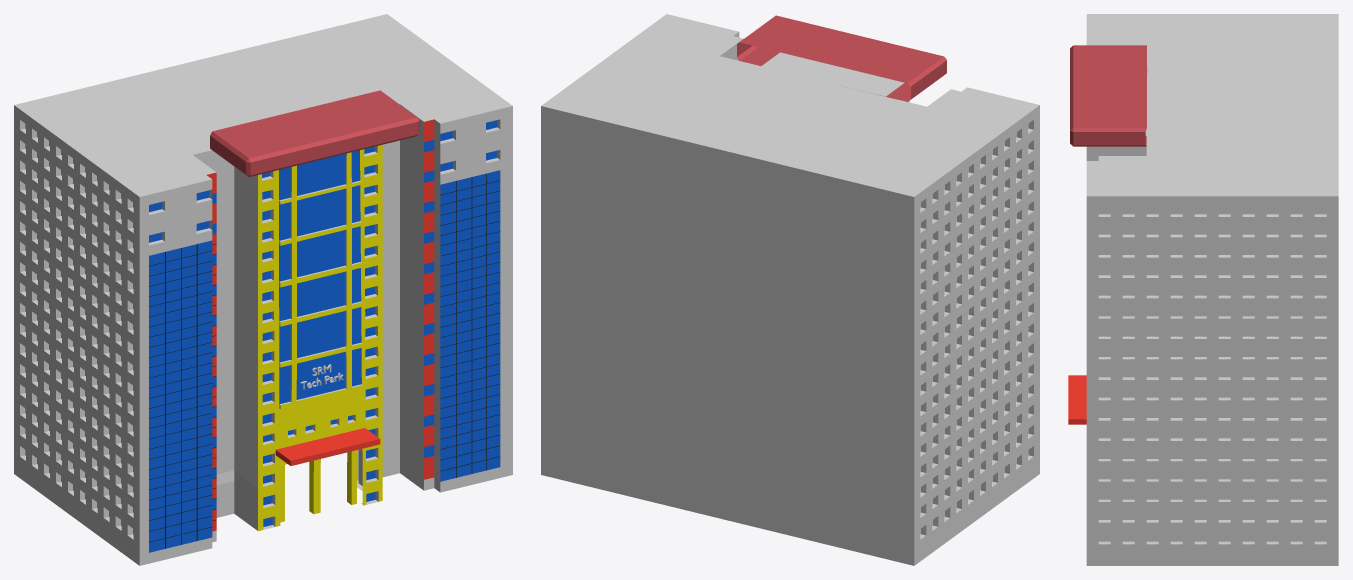
Rendered from techparkModelColored.glb.
3 views of the same model, side by side, from view 1: azimuth 30°, elevation 25°; view 2: azimuth 150°, elevation 25°; view 3: azimuth 270°, elevation 25° (orthographic).
Parts seen in each view (by area): view 1: Cube; view 2: Cube; view 3: Cube.
Part boxes in pixels (<box>): Cube: <box>14,14,512,565</box>; Cube: <box>541,14,1039,565</box>; Cube: <box>1068,14,1338,565</box>.
Bounding box in the file's own units: 18 × 17.86 × 11.27.
